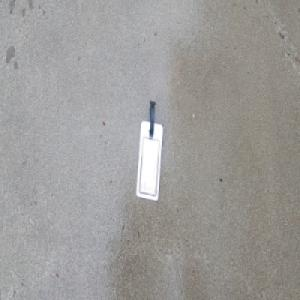LuggageTag: (135, 101, 164, 200)
